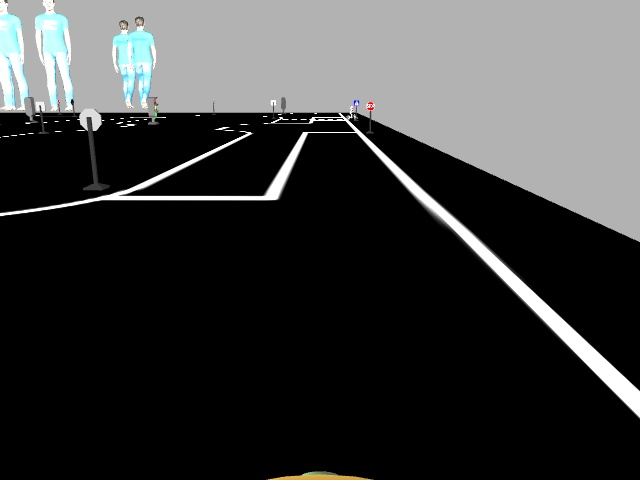Stop: (365, 101, 375, 110)
TrafficLight: (145, 96, 159, 117)
